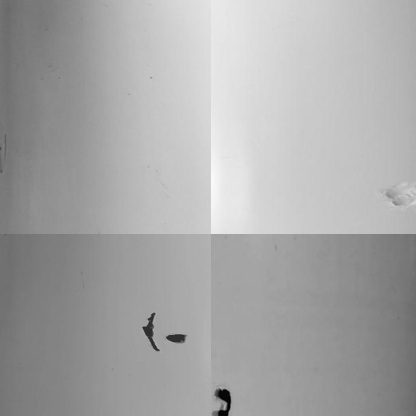kongdong: (137, 310, 161, 352), (213, 388, 231, 416), (165, 331, 187, 346)
sunshang: (374, 176, 416, 207)
